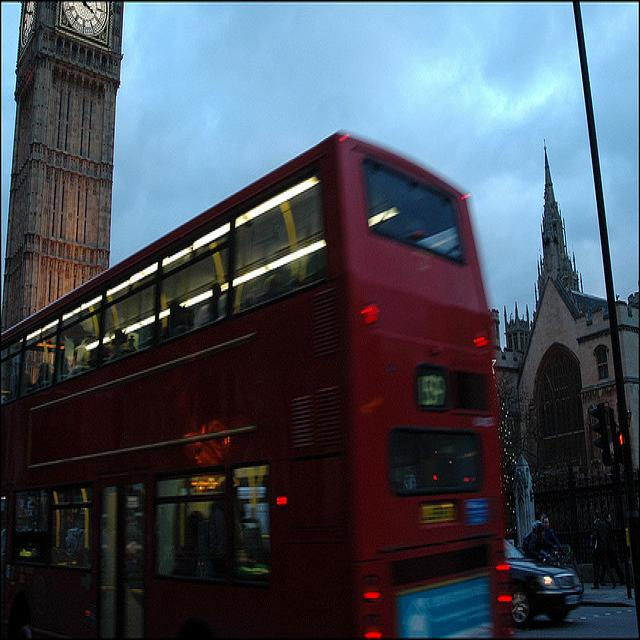motor: (542, 553, 583, 581)
